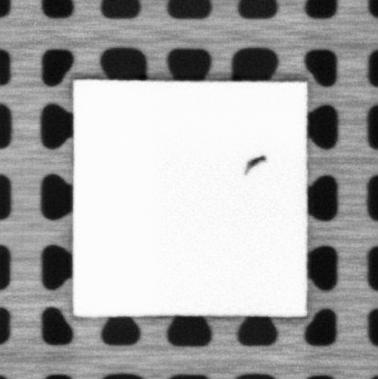DIE_INK: (243, 154, 266, 176)
